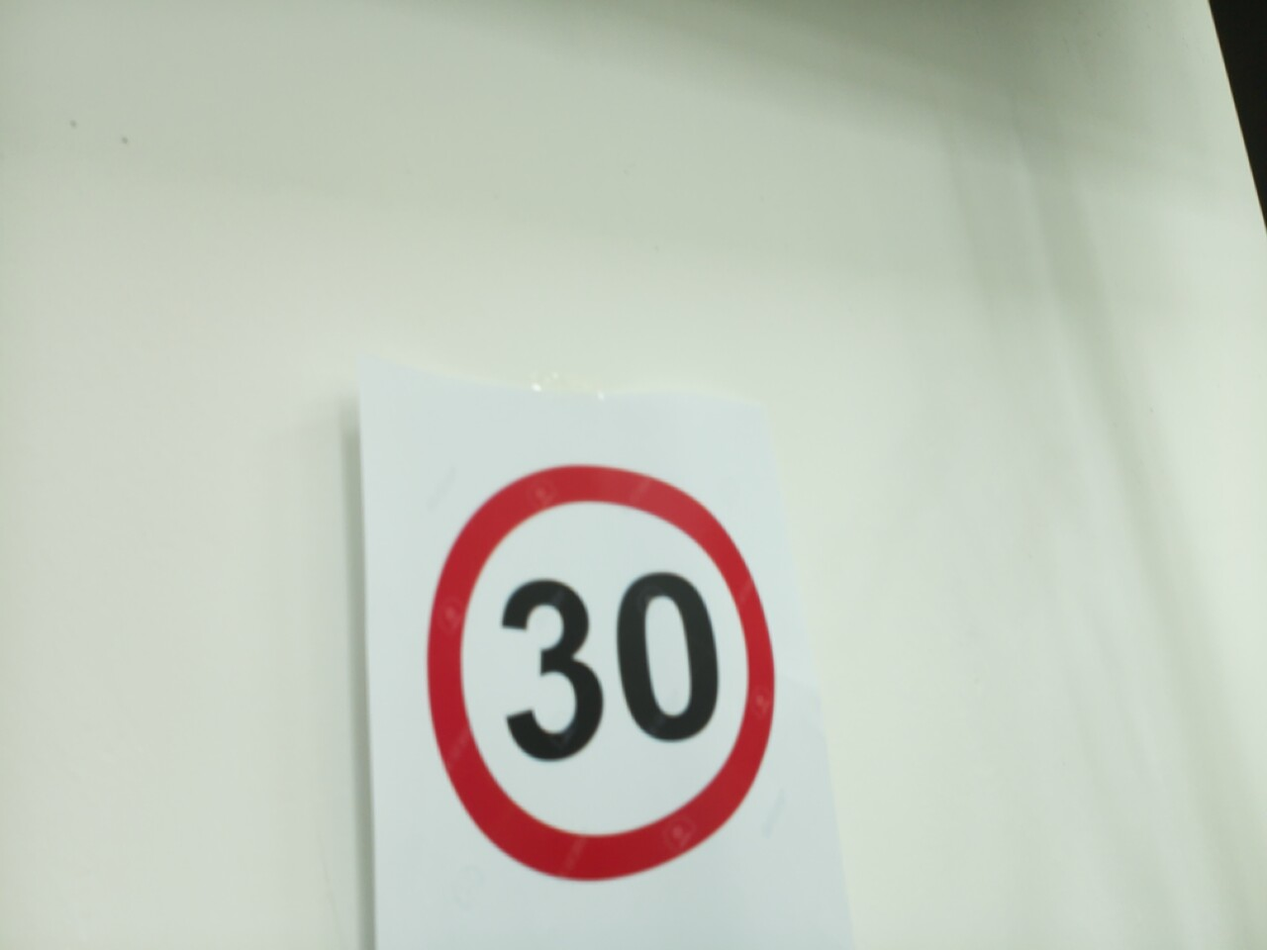speed_30: (416, 453, 786, 894)
